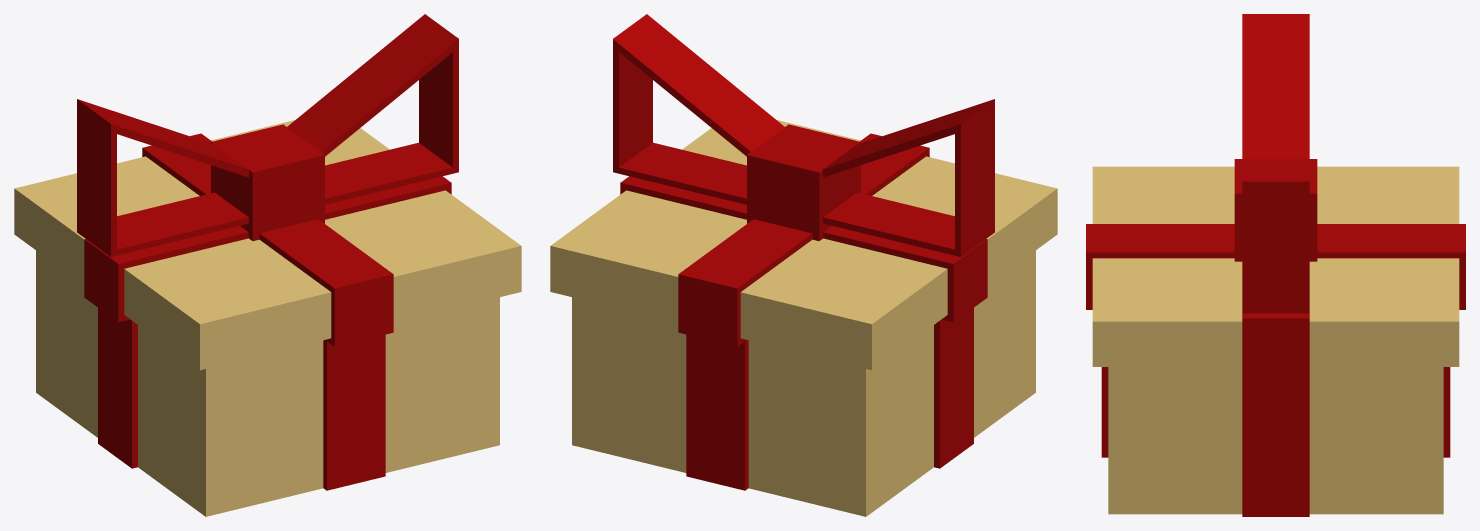
File: 014 Gift_Box.fbx
The picture shows the model from 3 angles, left to right: view 1: azimuth 30°, elevation 25°; view 2: azimuth 150°, elevation 25°; view 3: azimuth 270°, elevation 25°; orthographic projection.
Visible parts, largest first — view 1: Lowpoly_Christmas_Pack_014:Lowpoly_Christmas_Pack_04:pCube5; view 2: Lowpoly_Christmas_Pack_014:Lowpoly_Christmas_Pack_04:pCube5; view 3: Lowpoly_Christmas_Pack_014:Lowpoly_Christmas_Pack_04:pCube5.
Part boxes in pixels (x1,y1,x2,y2): Lowpoly_Christmas_Pack_014:Lowpoly_Christmas_Pack_04:pCube5: (14,14,521,516); Lowpoly_Christmas_Pack_014:Lowpoly_Christmas_Pack_04:pCube5: (550,14,1057,516); Lowpoly_Christmas_Pack_014:Lowpoly_Christmas_Pack_04:pCube5: (1086,14,1465,516).
Size of the model in its own units: 1.78 by 1.71 by 1.7.
